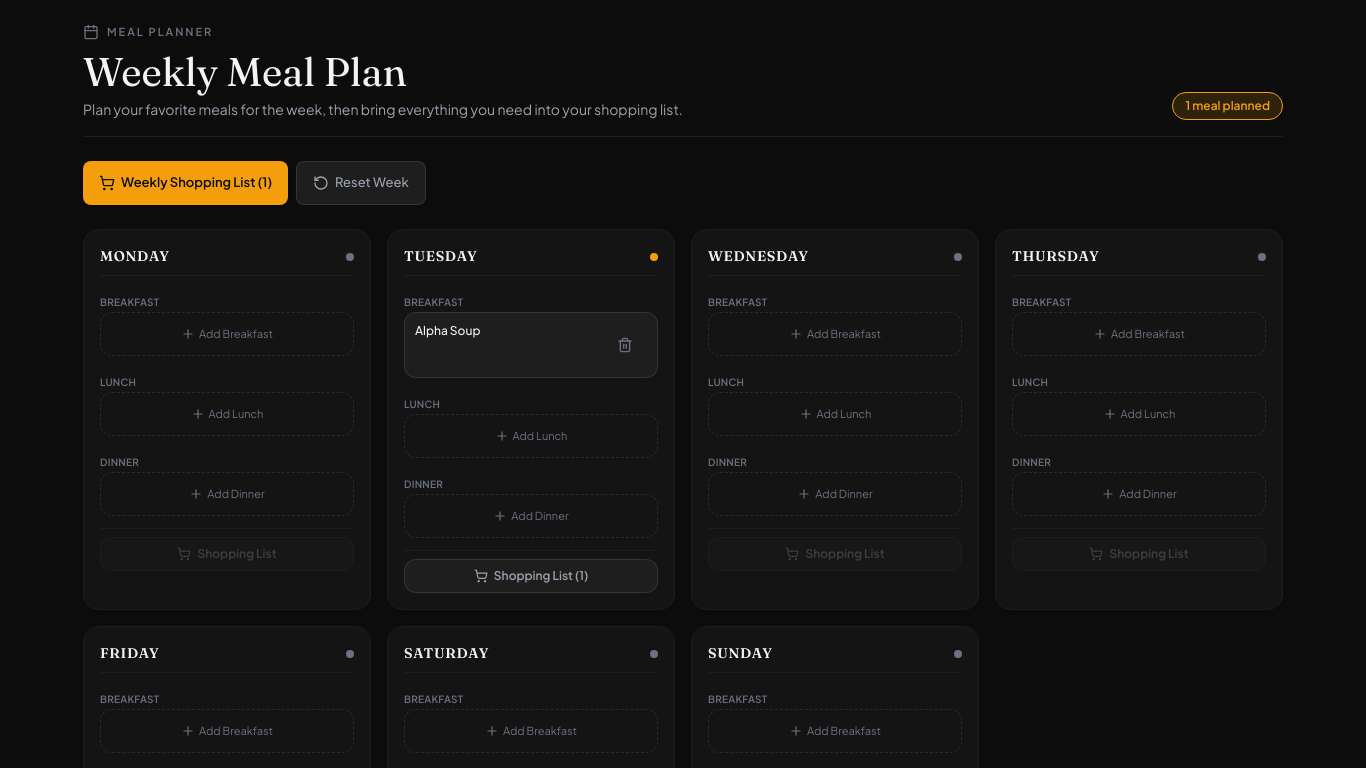
Scenario: MealPlannerView › modal closes via close button
The width and height of the screenshot is (1366, 768).
Click the button "Add Breakfast" below "Monday" at (227, 334), box [100,312,354,356]
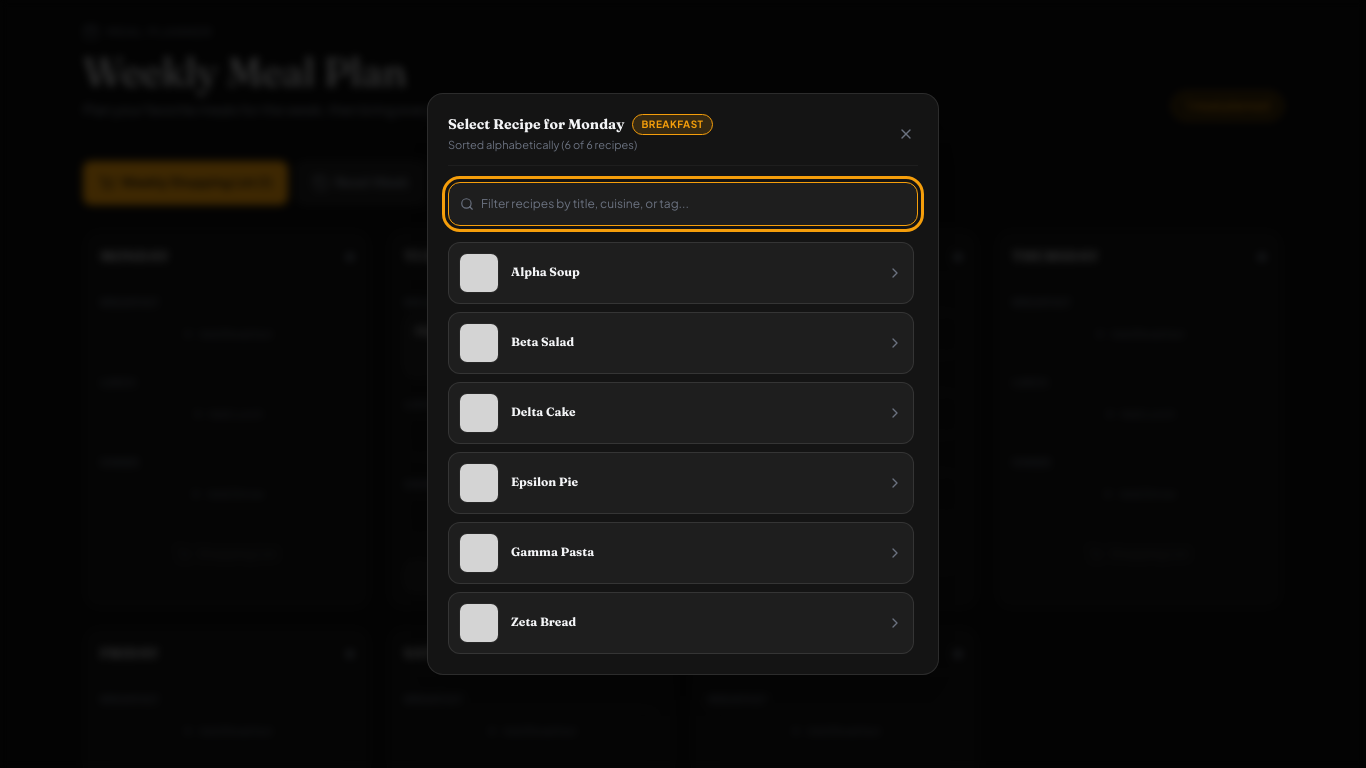
Now the heading "Select Recipe for Monday" is shown, box [448,114,624,134]
Click the button named "Close recipe selector" at (906, 134), box [894,122,918,146]
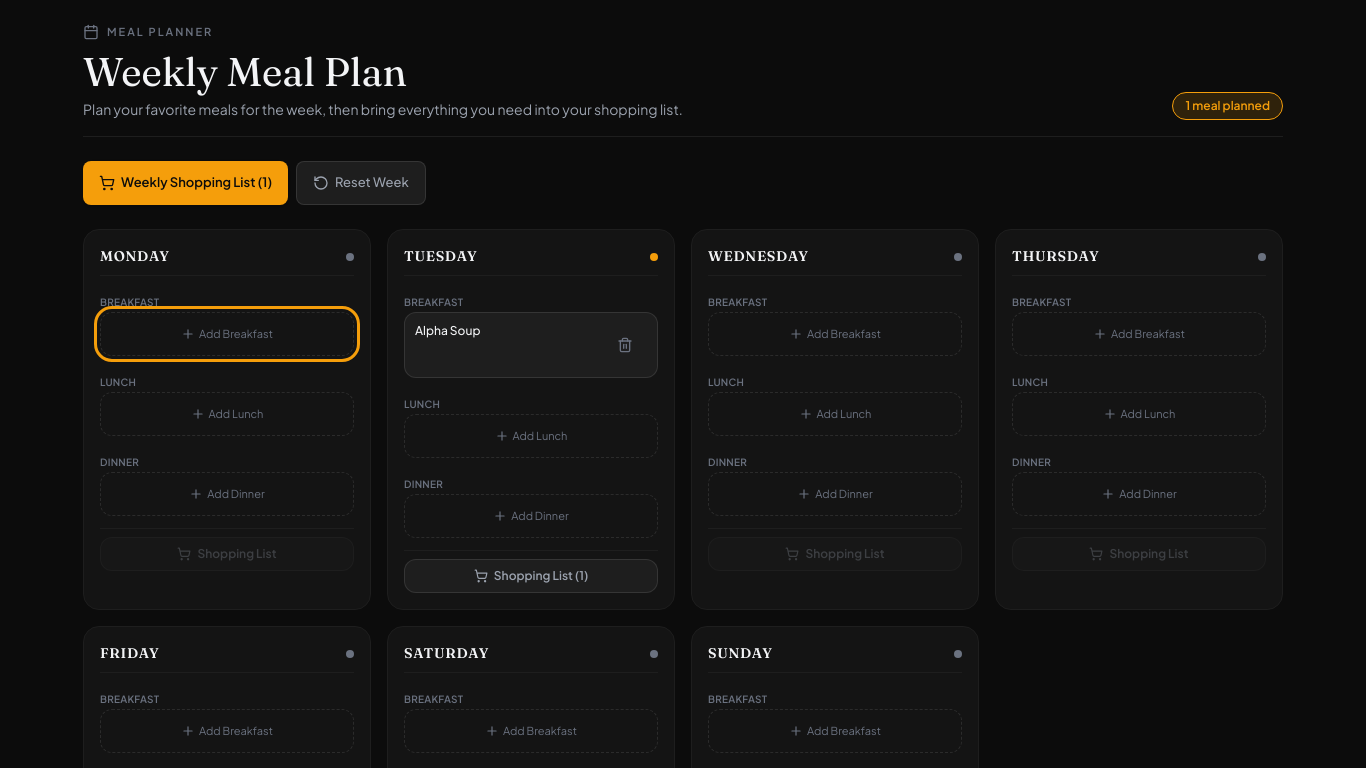
Now the heading "Select Recipe for Monday" is gone
